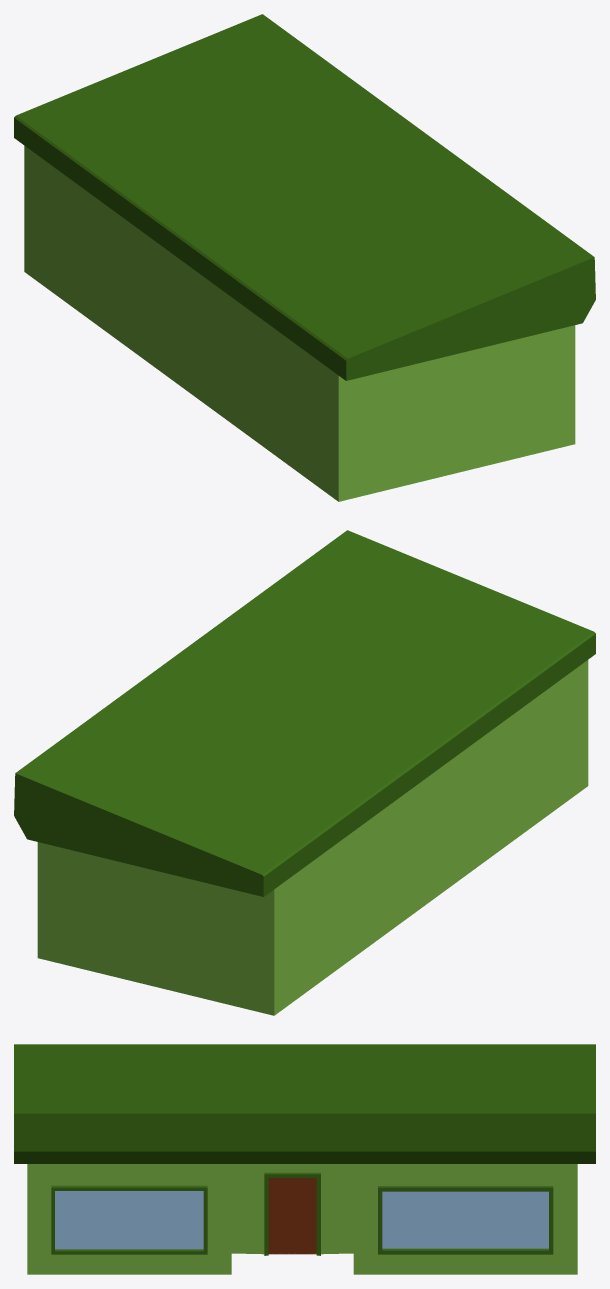
Rendered from green residential building 3.fbx.
3 renders of one model, top to bottom at view 1: azimuth 30°, elevation 25°; view 2: azimuth 150°, elevation 25°; view 3: azimuth 270°, elevation 25°, orthographic. The views are drawn at different scales.
Parts seen in each view (by area): view 1: Cube; view 2: Cube; view 3: Cube.
Boxes of the visible parts, x1,y1,x2,y2 form: Cube: (14, 14, 595, 501); Cube: (14, 530, 595, 1015); Cube: (14, 1044, 595, 1274).
Size of the model in its own units: 414 by 301 by 953.
